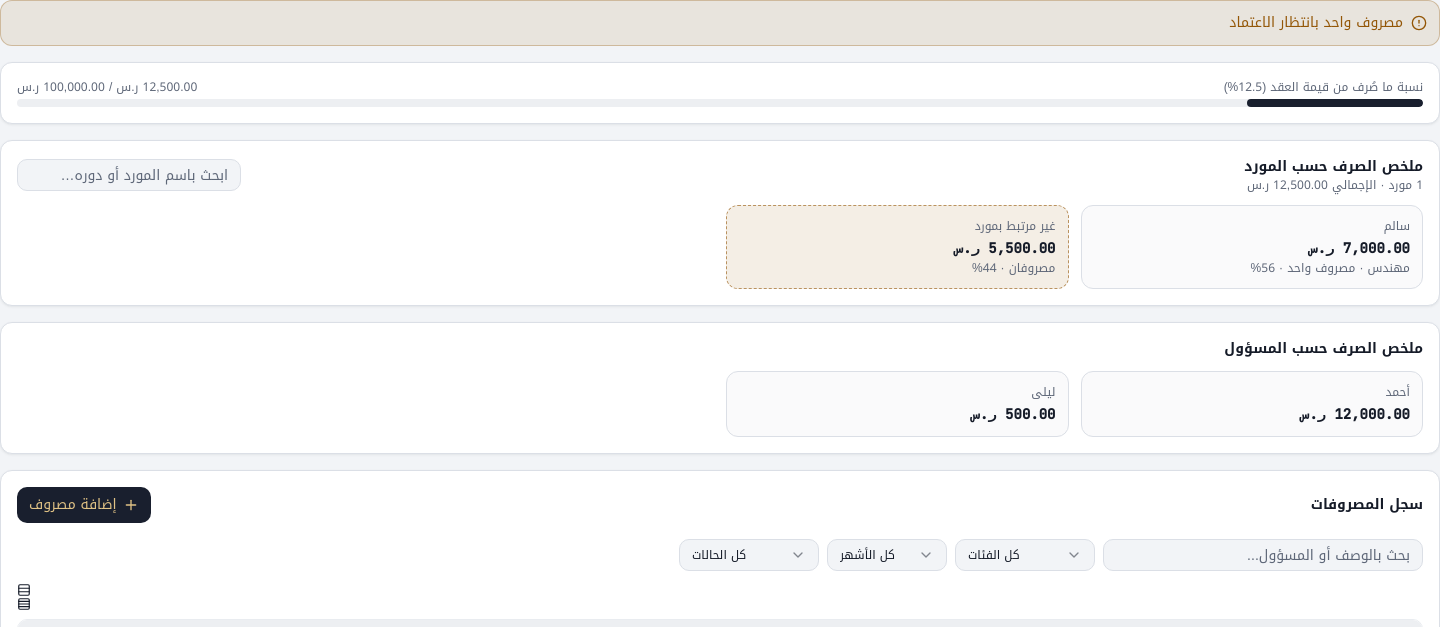
it: spend per resource › narrows the cards by name from its own search box
Type "لا أحد بهذا الاسم" into the field named "بحث في الموارد" at x=129, y=175, box [17, 159, 241, 191]
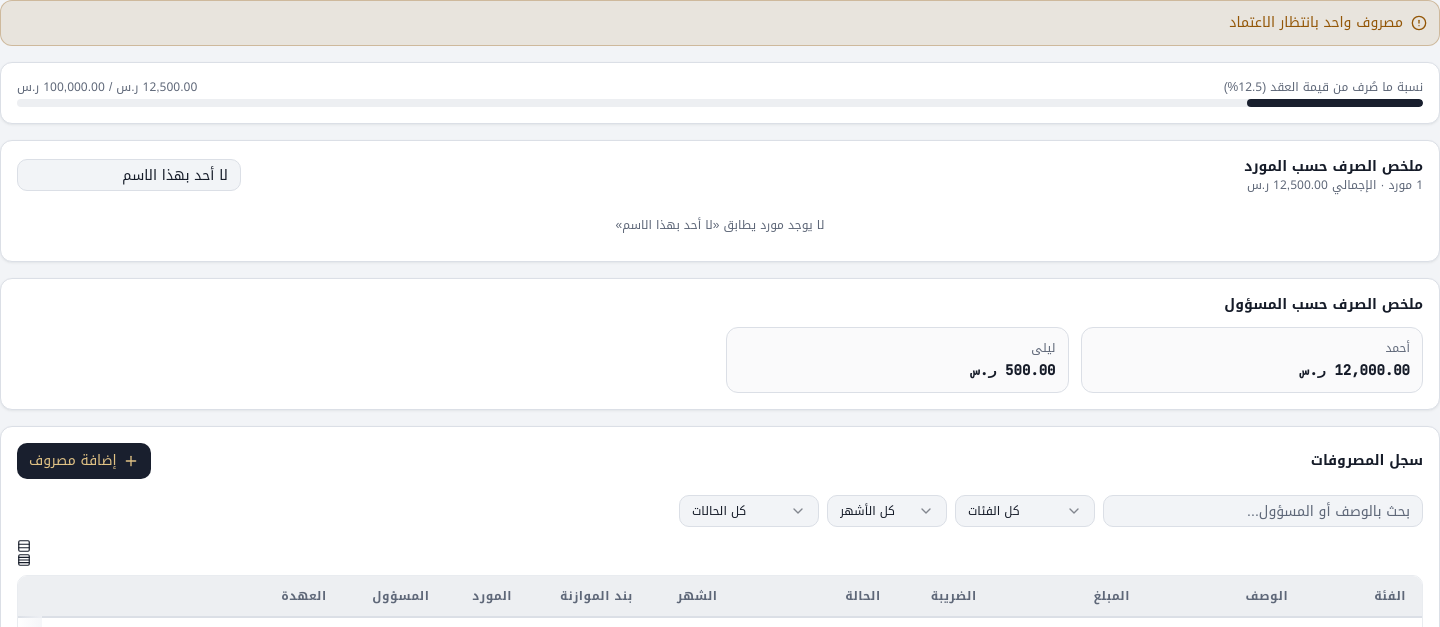
Now the text "لا يوجد مورد يطابق «لا أحد بهذا الاسم»" is shown, box [616, 214, 824, 236]
Replace the text in the field named "بحث في الموارد" with "سالم" at x=129, y=175, box [17, 159, 241, 191]
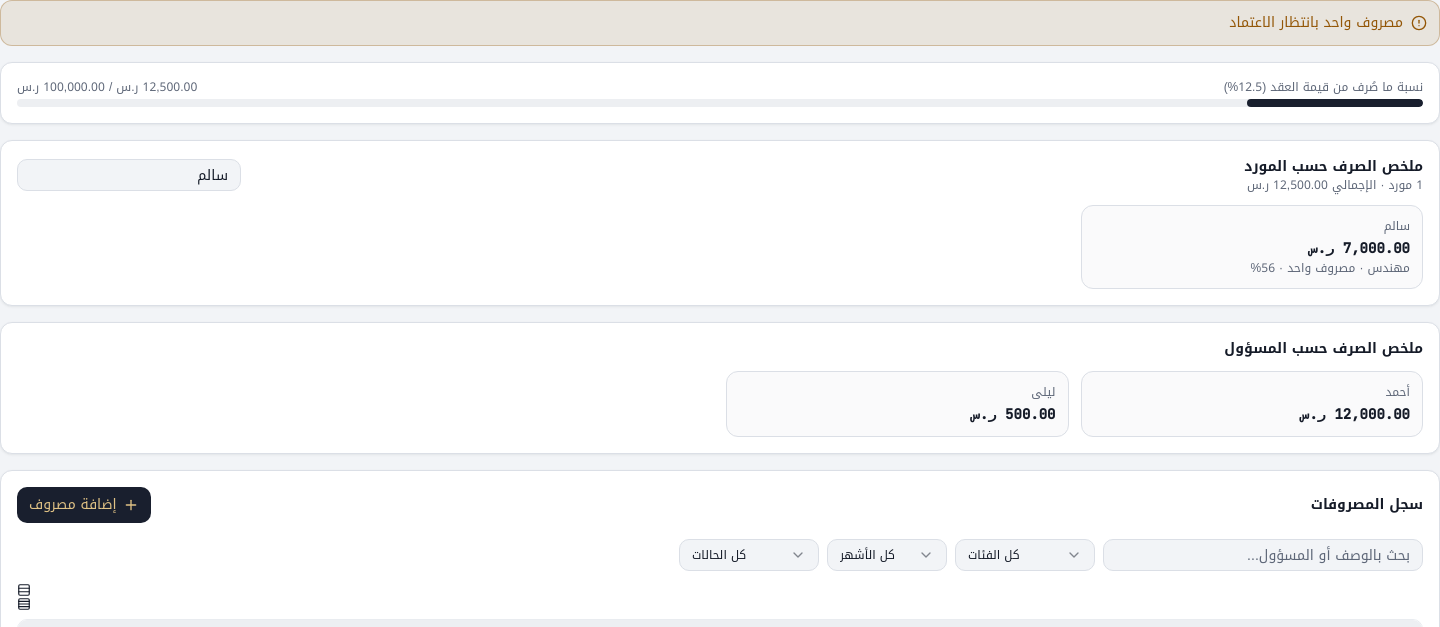
Expected: the button "غير مرتبط بمورد" is not shown
Now the text "سالم" is shown, box [1384, 215, 1410, 237]
